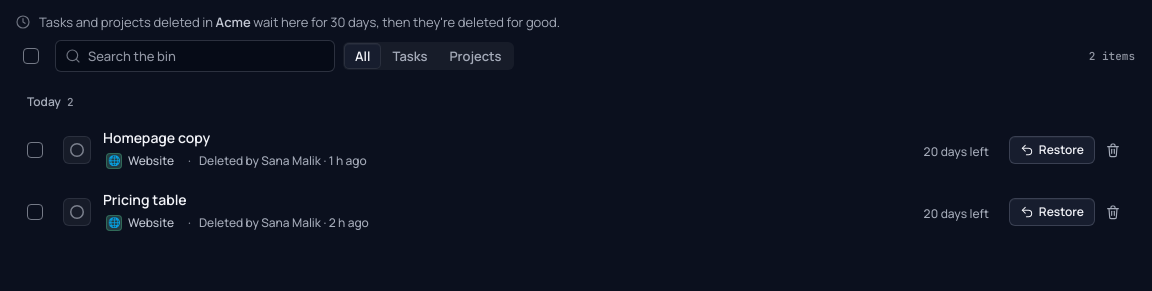
Test: RecycleBin states › a refused restore stays, with the reason under it
Click the button with aria-label "Restore “Homepage copy”" at (1052,150), box [1009,136,1095,164]
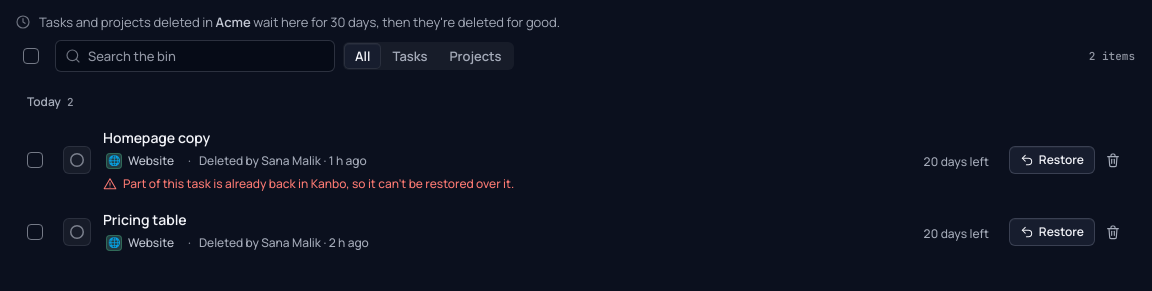
Check: the text "Homepage copy" is shown, box [102,127,210,147]
Check: the message reads "Part of this task is already back in Kanbo, so it can't be restored over it.", box [123,175,514,192]
Click the button with aria-label "Restore “Pricing table”" at (1052,232), box [1009,218,1095,246]
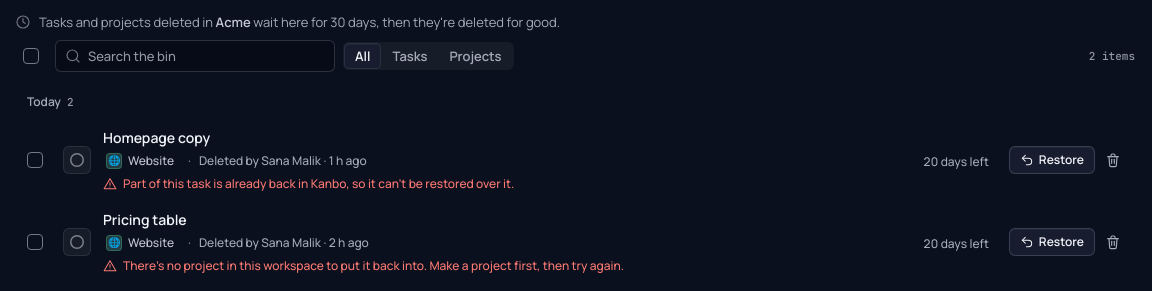
Check: the number of messages is 2, box [103,175,514,192]; [103,257,624,274]
Check: the 2nd message shows "Make a project first", box [123,257,624,274]
